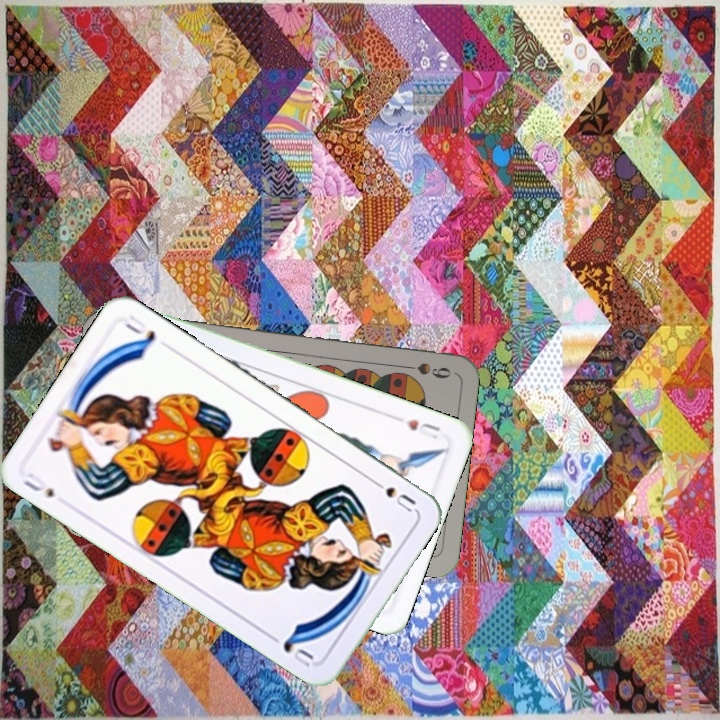HU: (402, 415, 444, 442)
S9: (395, 358, 453, 382)
SU: (366, 475, 419, 515), (19, 469, 57, 501)
